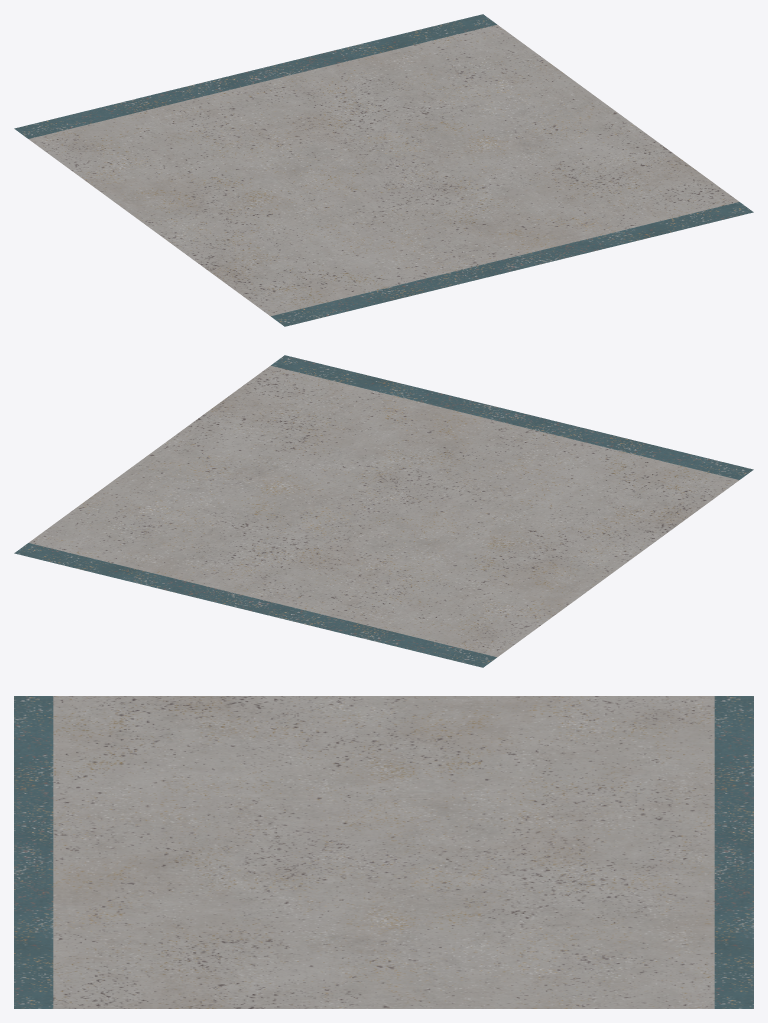
Rendered from HH_Flooring_Concrete_4x4m_02.fbx.
3 renders of one model, top to bottom at view 1: azimuth 30°, elevation 25°; view 2: azimuth 150°, elevation 25°; view 3: azimuth 270°, elevation 25°, orthographic. The views are drawn at different scales.
Parts seen in each view (by area): view 1: HH_Flooring_Concrete_4x4m_02; view 2: HH_Flooring_Concrete_4x4m_02; view 3: HH_Flooring_Concrete_4x4m_02.
Part boxes in pixels (box(x1,y1,x2,y2)): HH_Flooring_Concrete_4x4m_02: box(14, 14, 753, 326); HH_Flooring_Concrete_4x4m_02: box(14, 355, 753, 667); HH_Flooring_Concrete_4x4m_02: box(14, 696, 753, 1008).
Size of the model in its own units: 400 by 0 by 400.
